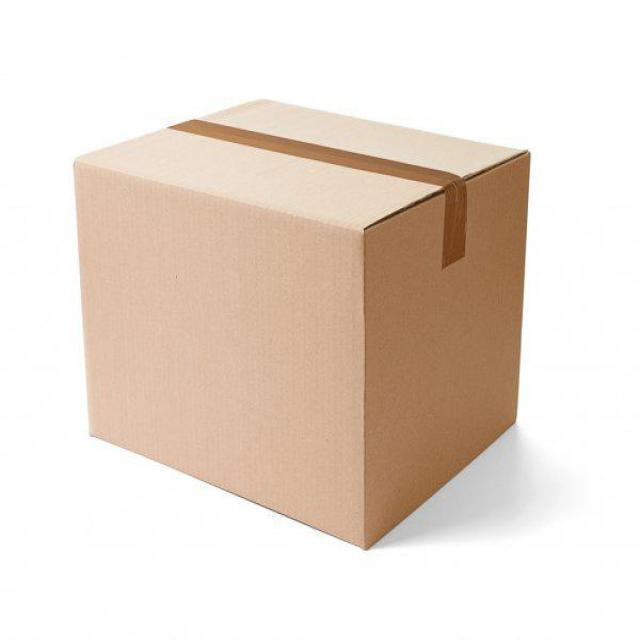box: (76, 82, 532, 553)
